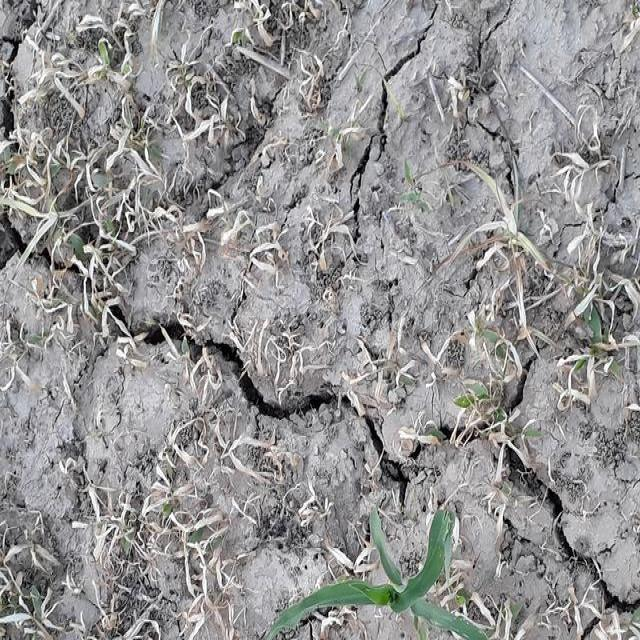weed: (266, 532, 488, 640)
